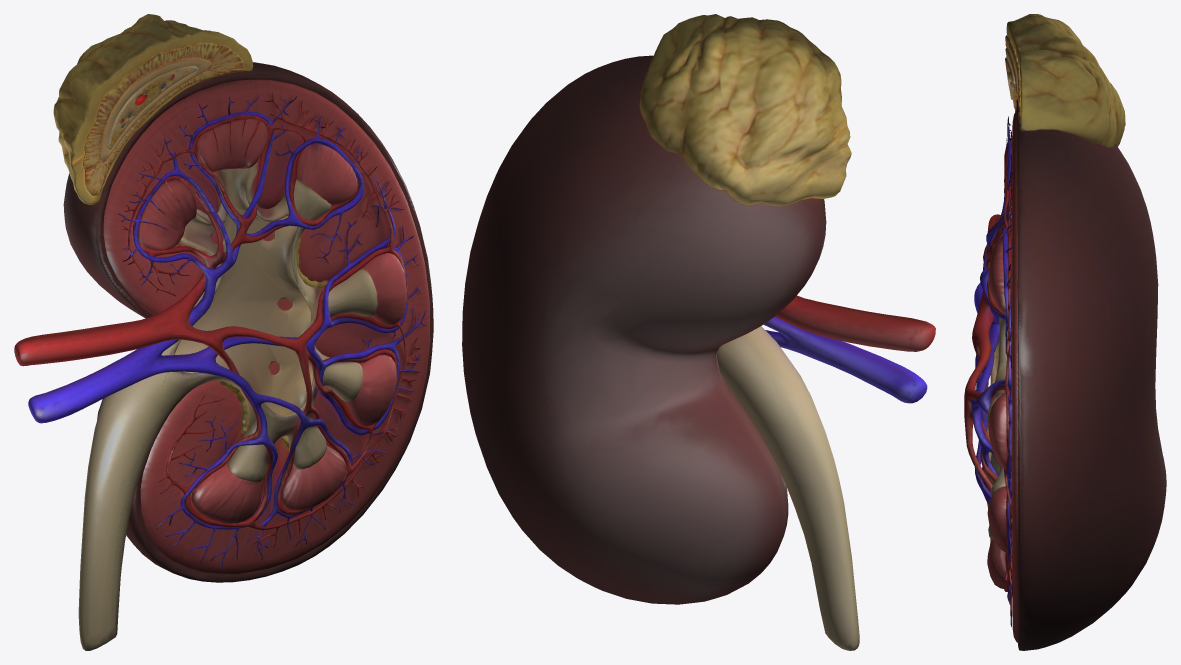
The model's file is Kidney_V02.glb.
3 views of the same model, side by side, from view 1: azimuth 30°, elevation 25°; view 2: azimuth 150°, elevation 25°; view 3: azimuth 270°, elevation 25° (orthographic). The views are drawn at different scales.
Visible parts, largest first — view 1: Kidney_Anatomy_OBJ; view 2: Kidney_Anatomy_OBJ; view 3: Kidney_Anatomy_OBJ.
Part boxes in pixels (box(x1,y1,x2,y2)): Kidney_Anatomy_OBJ: box(14, 14, 433, 650); Kidney_Anatomy_OBJ: box(462, 14, 935, 650); Kidney_Anatomy_OBJ: box(964, 14, 1166, 650).
Bounding box in the file's own units: 8.04 × 10.58 × 3.35.
1 material, 1 textured.
